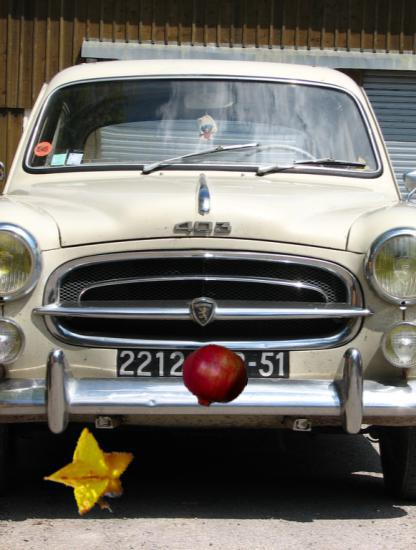Carambula: (47, 428, 138, 519)
Pomegranate: (181, 343, 248, 410)
